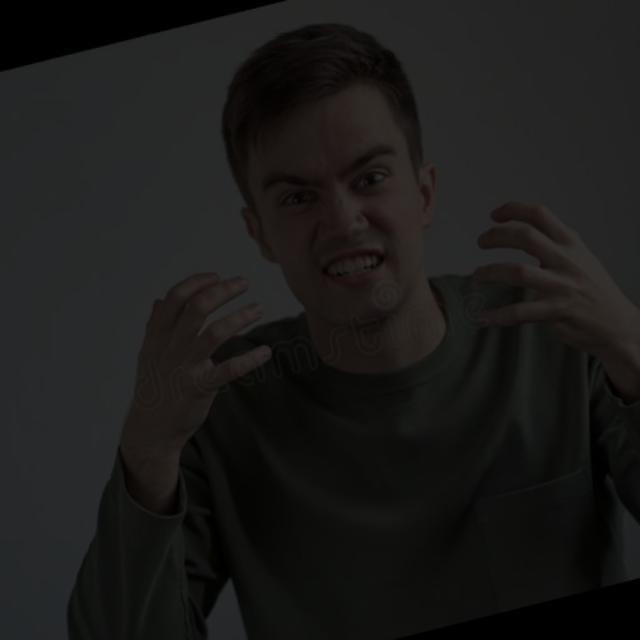Angry: (152, 33, 478, 337)
